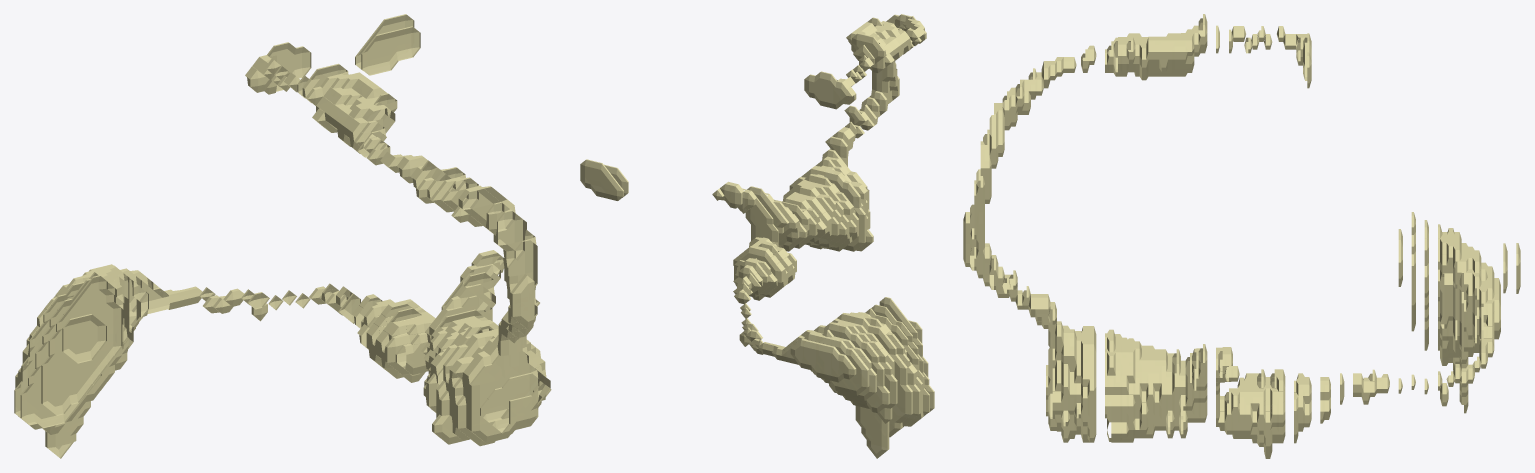
Rendered from SVV_OLQDL.gltf.
3 views of the same model, side by side, from view 1: azimuth 30°, elevation 25°; view 2: azimuth 150°, elevation 25°; view 3: azimuth 270°, elevation 25° (orthographic). The views are drawn at different scales.
Parts seen in each view (by area): view 1: OLQDL; view 2: OLQDL; view 3: OLQDL.
Part boxes in pixels (box(x1,y1,x2,y2)): OLQDL: box(14, 14, 551, 458); OLQDL: box(580, 14, 934, 458); OLQDL: box(963, 14, 1520, 458).
Size of the model in its own units: 30735 by 30223 by 32785.
